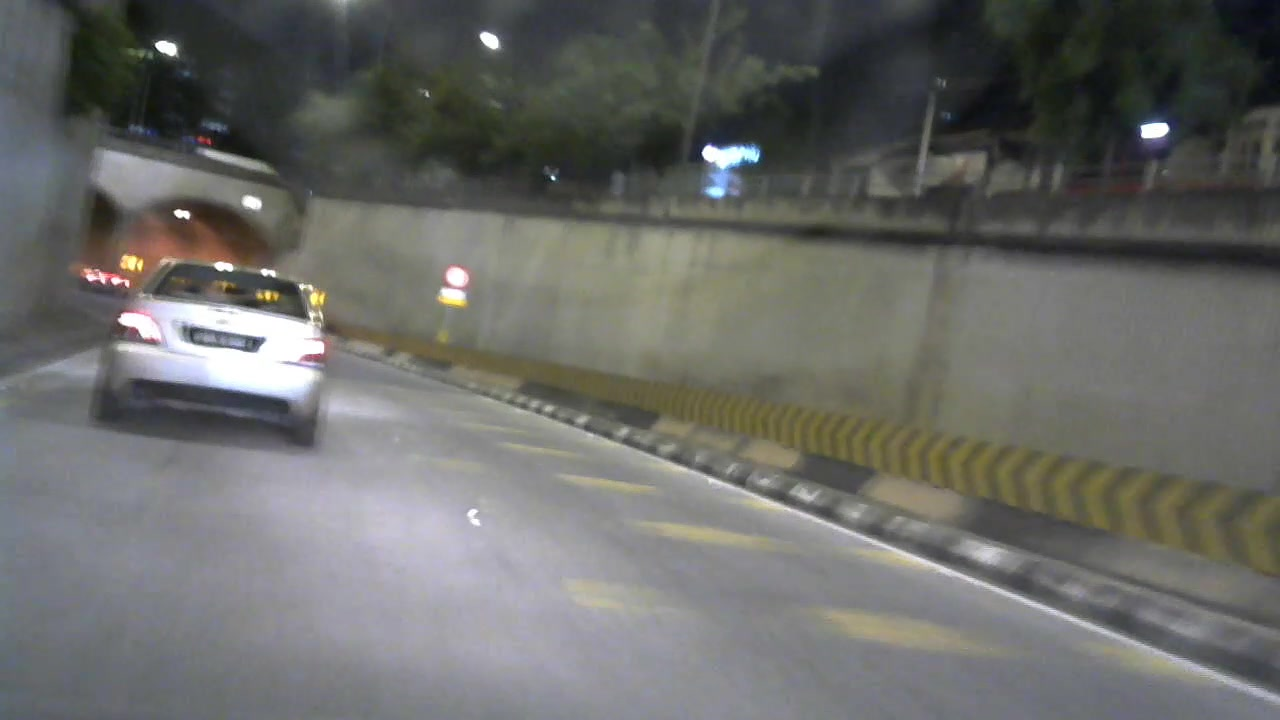Car: (86, 253, 335, 457)
